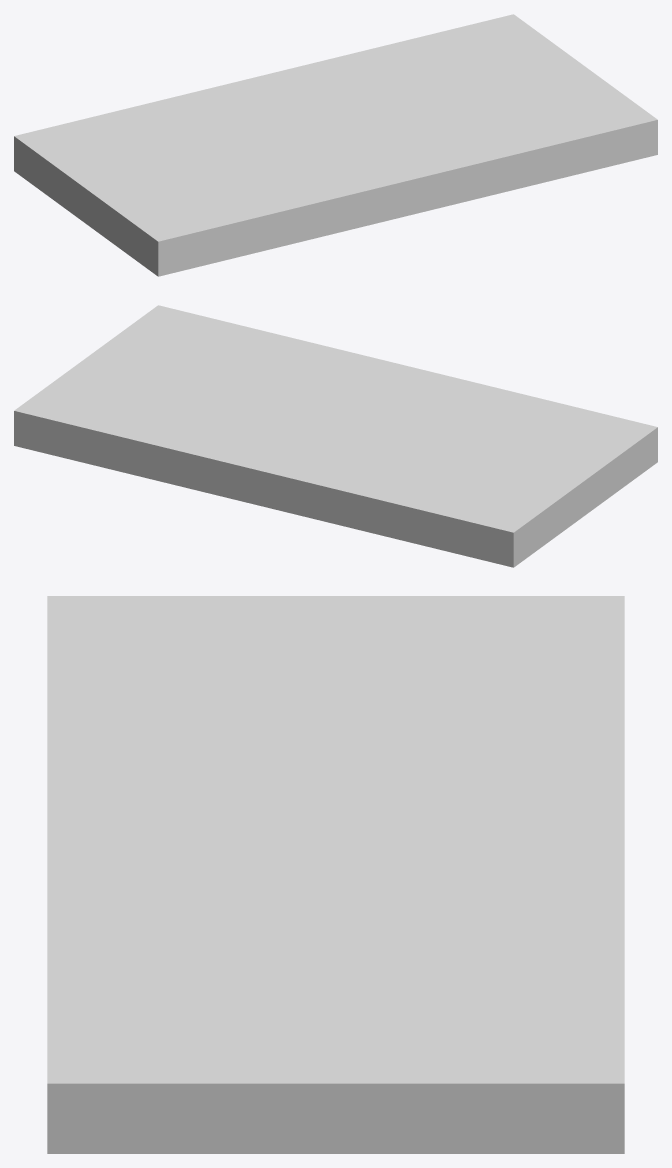
Rendered from BgMD_ceiling1.fbx.
The picture shows the model from 3 angles, top to bottom: view 1: azimuth 30°, elevation 25°; view 2: azimuth 150°, elevation 25°; view 3: azimuth 270°, elevation 25°; orthographic projection. The views are drawn at different scales.
Parts seen in each view (by area): view 1: pCube3; view 2: pCube3; view 3: pCube3.
Part boxes in pixels (x1=…): pCube3: x1=14, y1=14, x2=657, y2=276; pCube3: x1=14, y1=305, x2=657, y2=567; pCube3: x1=47, y1=596, x2=624, y2=1153.
Bounding box in the file's own units: 200 × 13.41 × 100.
